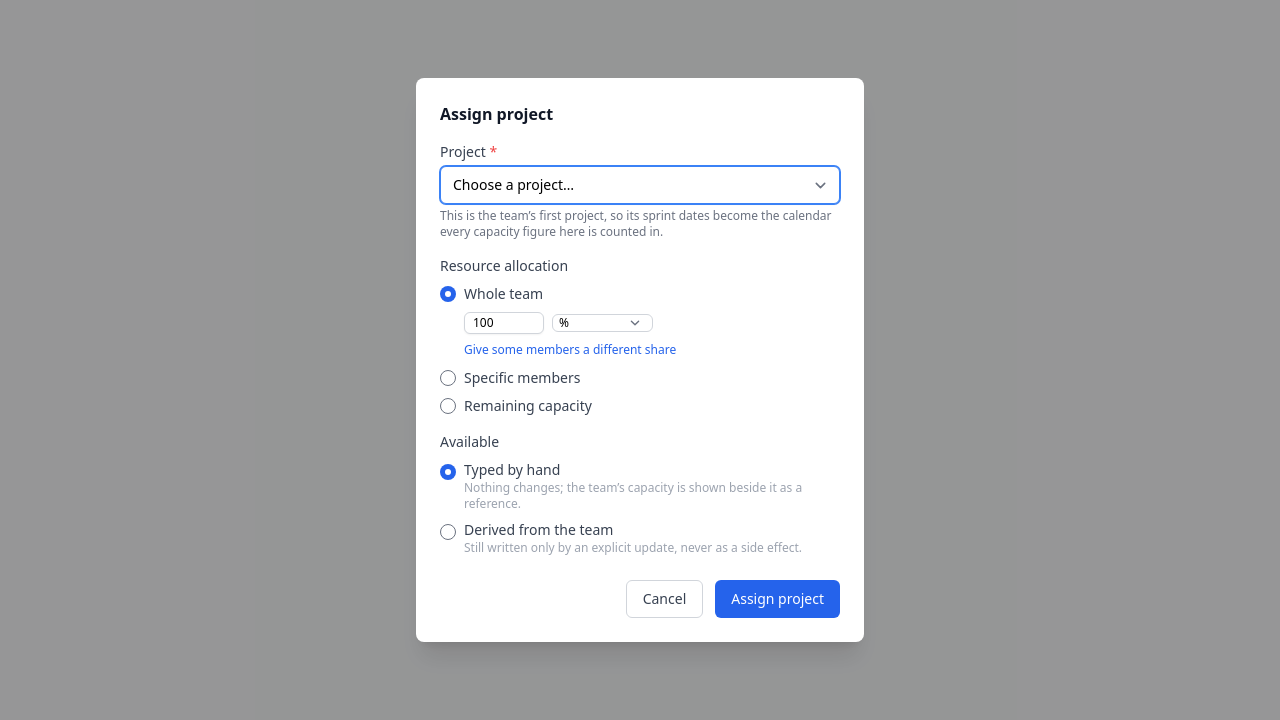
Test: AssignProjectModal › falls back to try-again for a failure it cannot explain
Select "ISK Portal" in the dropdown labelled "Project *" at (640, 185), box [440,166,840,204]
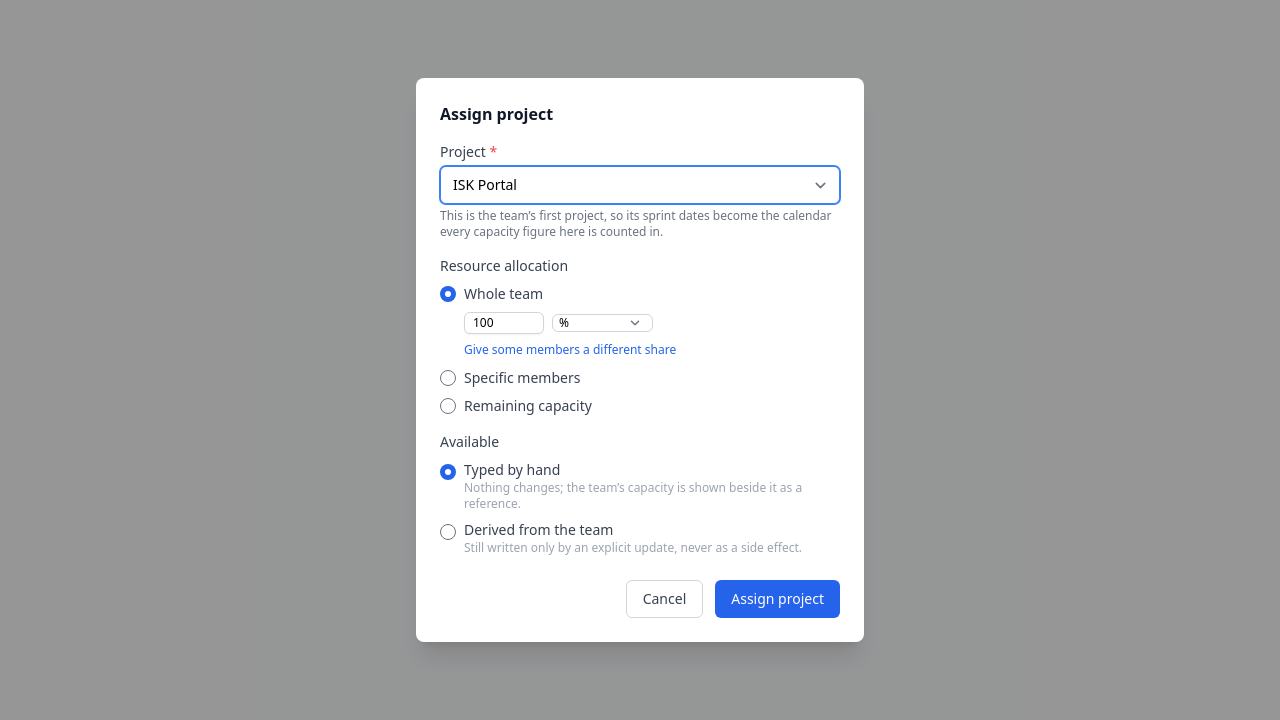
Click the button "Assign project" at (778, 599), box [715,580,840,618]
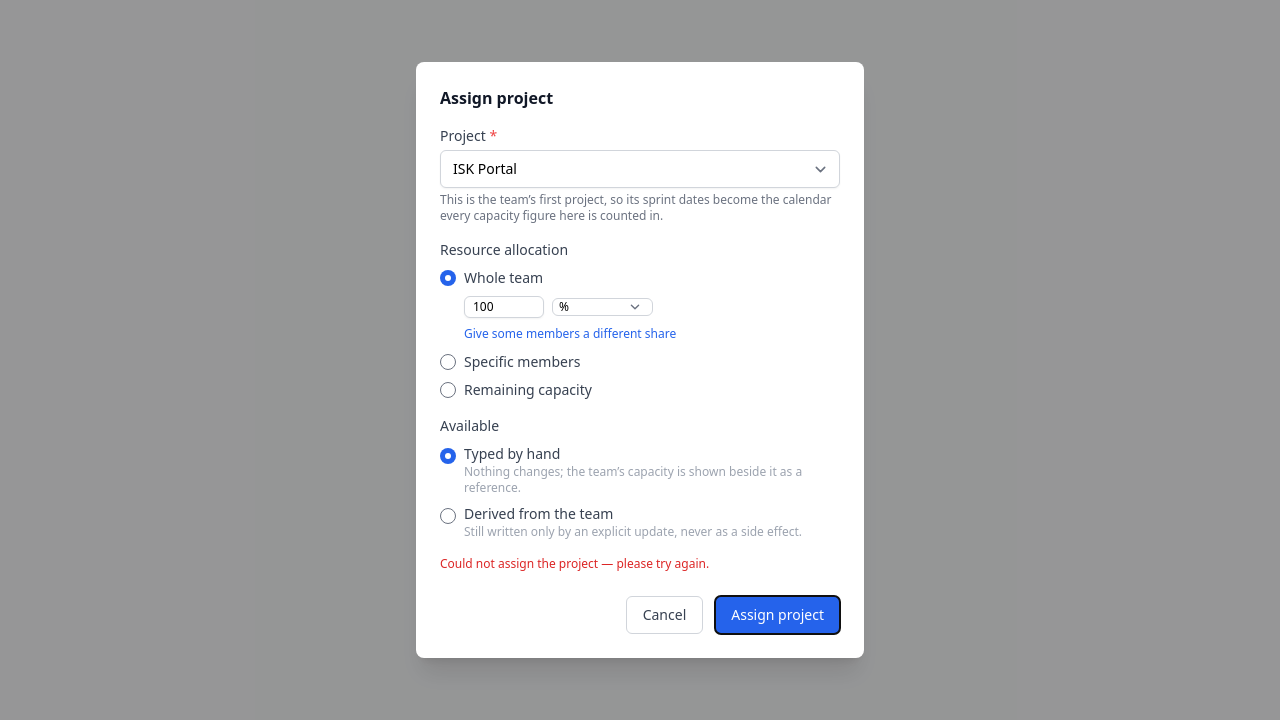
Expected: the message shows "please try again", [440,555,709,572]
